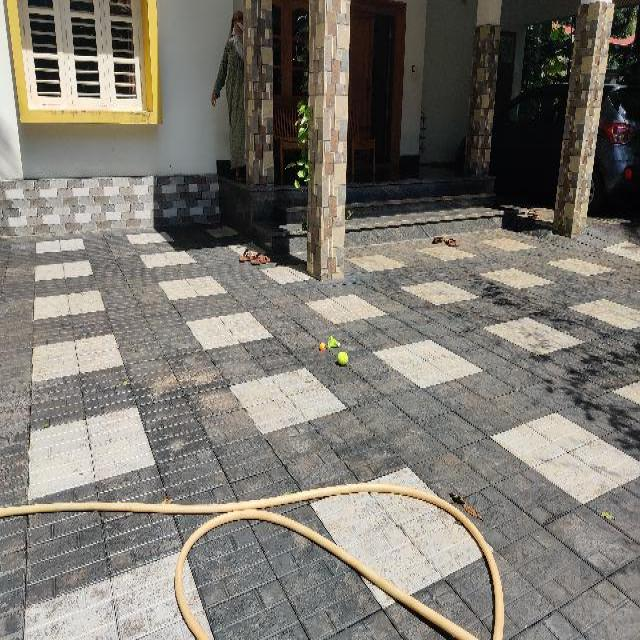ping-pong-ball: (319, 342, 325, 349)
